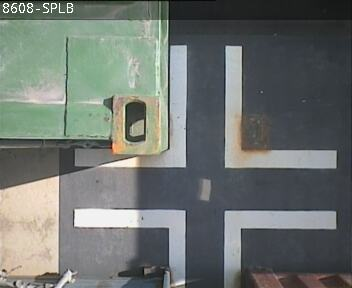groundmarker_1: (75, 45, 336, 168), (74, 208, 336, 288)
